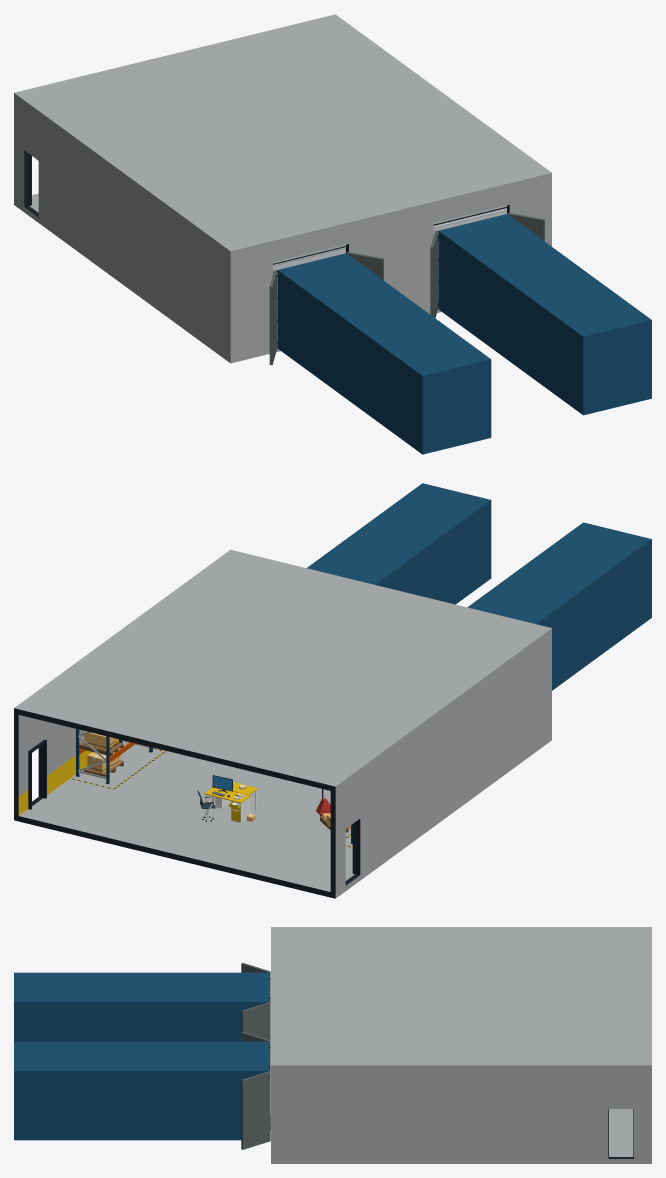
Rendered from Room_delivery_002.fbx.
3 views of the same model, one above another, from view 1: azimuth 30°, elevation 25°; view 2: azimuth 150°, elevation 25°; view 3: azimuth 270°, elevation 25° (orthographic). The views are drawn at different scales.
Parts seen in each view (by area): view 1: Room_delivery_002; view 2: Room_delivery_002; view 3: Room_delivery_002.
Part boxes in pixels (left/top/right/bottom): Room_delivery_002: left=14, top=14, right=651, bottom=454; Room_delivery_002: left=14, top=483, right=651, bottom=898; Room_delivery_002: left=14, top=927, right=651, bottom=1163.
Size of the model in its own units: 1200 by 400 by 2343.
